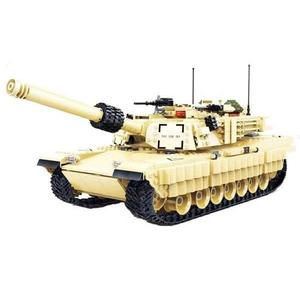Battle Tank: (2, 64, 295, 229)
